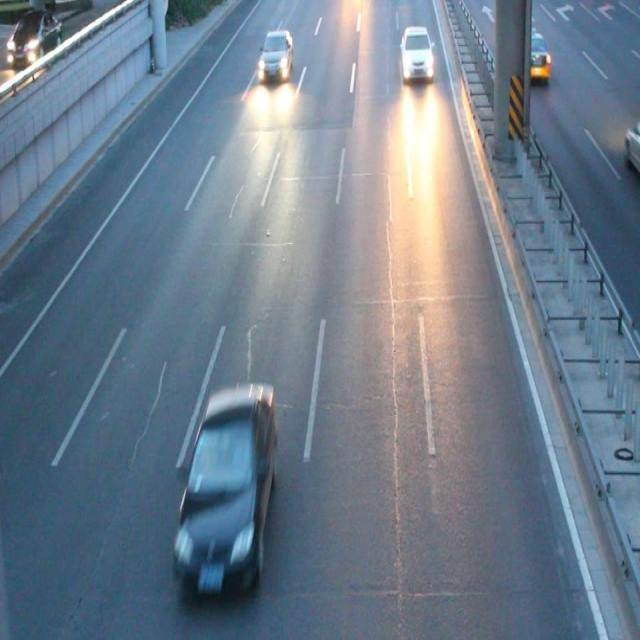car: (172, 386, 274, 575), (508, 29, 548, 78), (400, 24, 432, 79), (258, 32, 292, 78), (624, 120, 640, 174)
